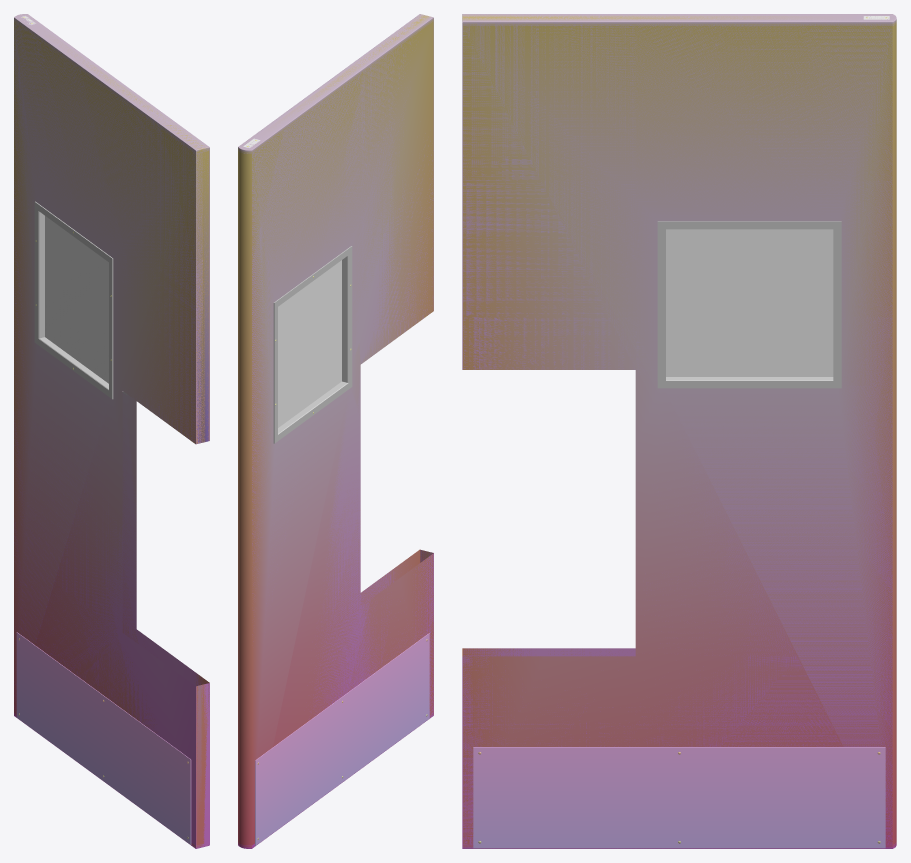
Rendered from Kit_DoorLeafBreak_SteelRun_DA.fbx.
3 views of the same model, side by side, from view 1: azimuth 30°, elevation 25°; view 2: azimuth 150°, elevation 25°; view 3: azimuth 270°, elevation 25° (orthographic). The views are drawn at different scales.
Parts seen in each view (by area): view 1: body_L0, body_L2, body_L1; view 2: body_L0, body_L2, body_L1; view 3: body_L0, body_L2, body_L1.
Part boxes in pixels (x1=…): body_L0: x1=14, y1=14, x2=209, y2=848; body_L2: x1=14, y1=15, x2=209, y2=848; body_L1: x1=15, y1=14, x2=209, y2=848; body_L0: x1=238, y1=14, x2=433, y2=848; body_L2: x1=238, y1=17, x2=433, y2=847; body_L1: x1=240, y1=14, x2=432, y2=562; body_L0: x1=462, y1=14, x2=896, y2=848; body_L2: x1=462, y1=14, x2=896, y2=848; body_L1: x1=462, y1=14, x2=895, y2=656.
Bounding box in the file's own units: 0.0498 × 2.08 × 0.99.
